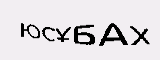Б: (59, 21, 77, 46)
В: (98, 18, 115, 41)
Д: (34, 21, 57, 51)
И: (78, 22, 94, 46)
У: (113, 15, 134, 41)
